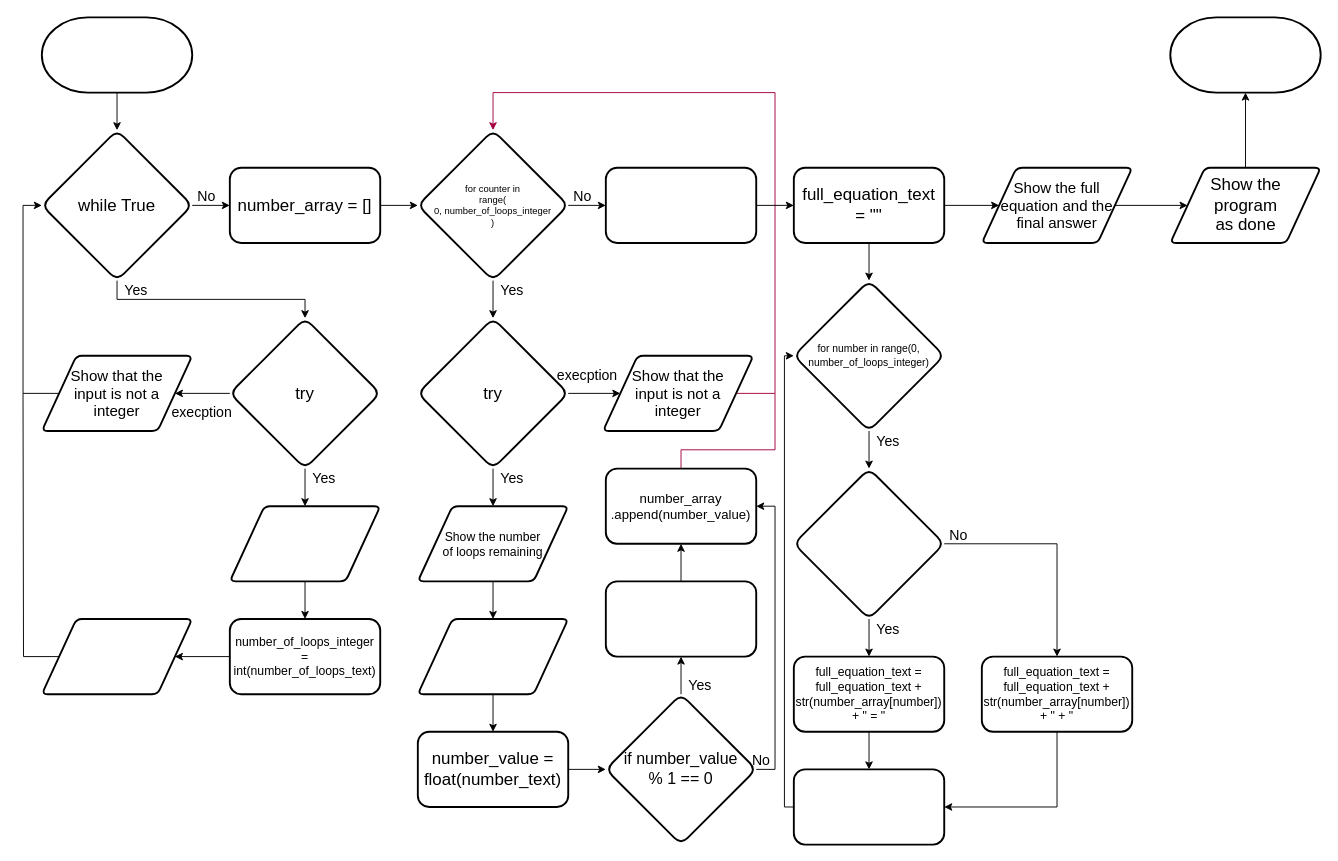
This 1338x861 diagram has some shape labels left out. The shapes that lost their labels are listed below. From the top down, each one's centre as x and y in pixels, then its label:
At [116,54]: "Start".
At [1245,54]: "Stop".
At [680,204]: "final_answer = 0".
At [304,543]: "Set the number of loops".
At [868,543]: "if number == number_of_loops_integer - 1".
At [680,618]: "number_value = int(number_text)".
At [116,656]: "break".
At [492,656]: "Set number text".
At [868,806]: "final_answer = final_answer + number_array[number]".
